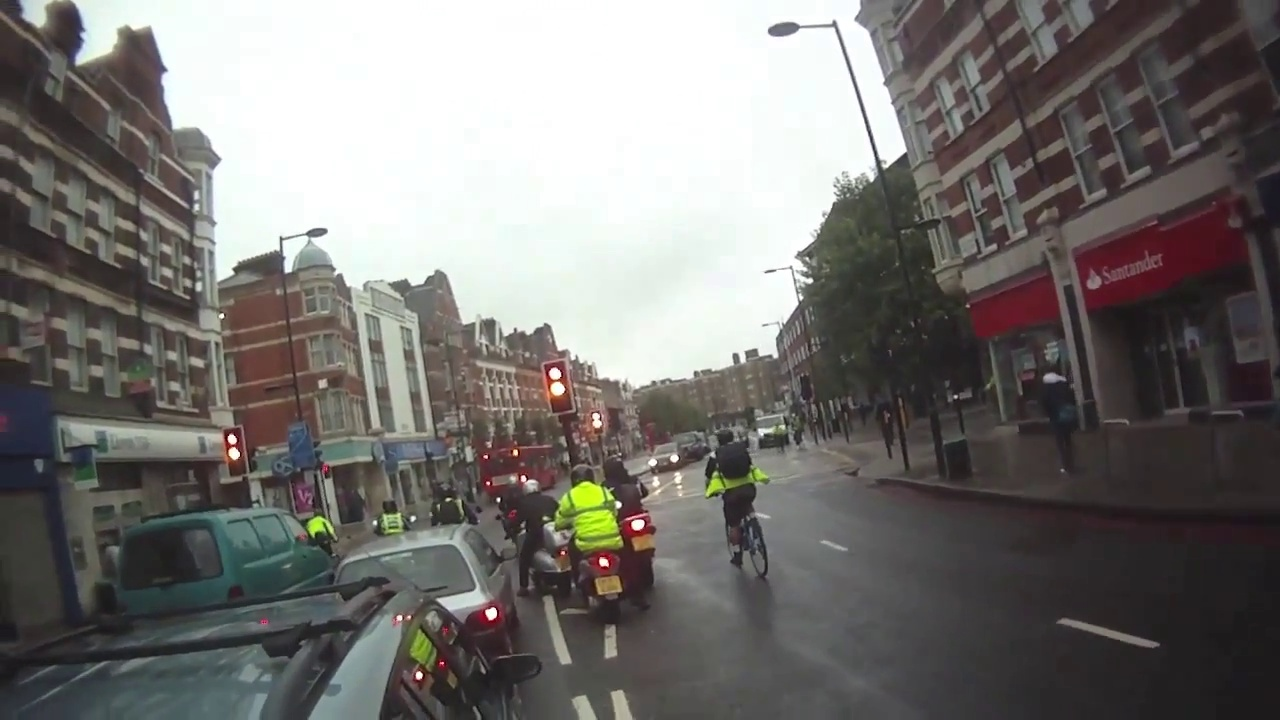cyclist_back: (555, 461, 628, 637), (706, 426, 785, 580)
